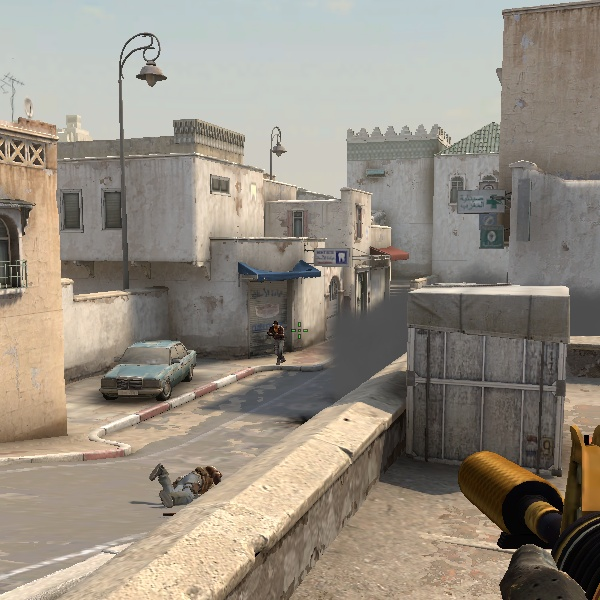t_body: (264, 317, 290, 365)
